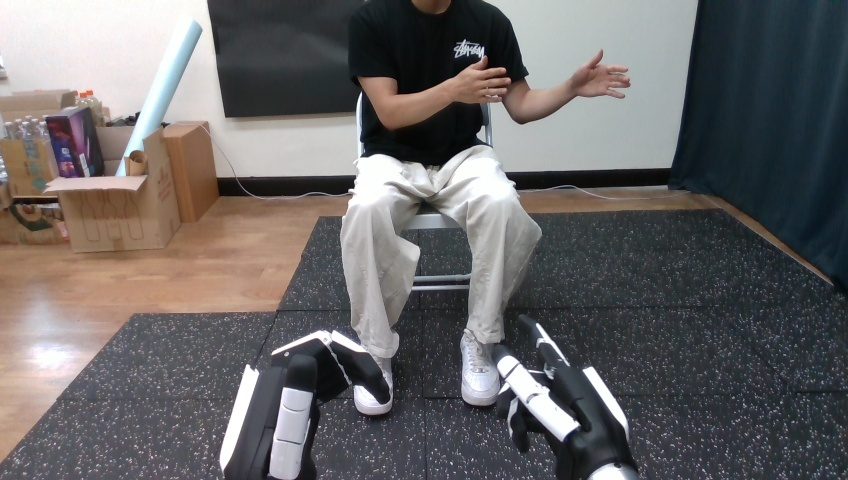left robot arm: (492, 315, 638, 479)
left robot hand: (492, 315, 638, 479)
right robot arm: (492, 315, 638, 479)
right robot hand: (492, 315, 638, 479), (570, 50, 629, 98), (451, 56, 510, 103)
